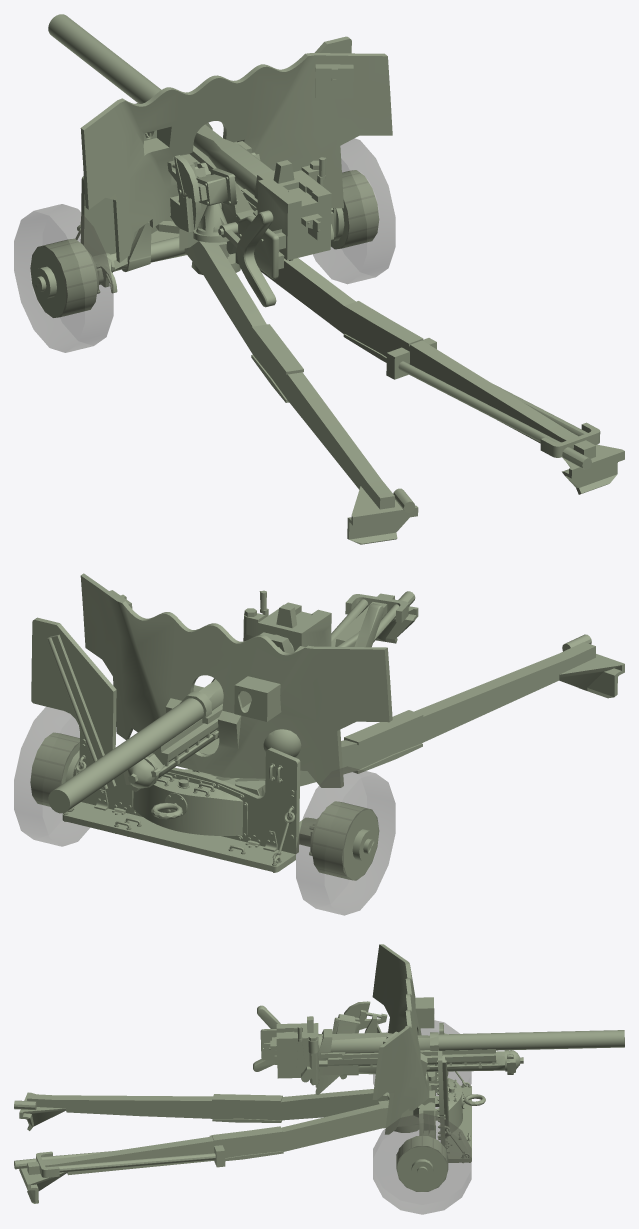
The model's file is AMK.glb.
The picture shows the model from 3 angles, top to bottom: view 1: azimuth 30°, elevation 25°; view 2: azimuth 150°, elevation 25°; view 3: azimuth 270°, elevation 25°; orthographic projection. The views are drawn at different scales.
Parts seen in each view (by area): view 1: amkpro, amkgua2, amkgua1, amknem1, amkarco, amknem2, amkcao, amkbloq, amklla1, amkeje, amkprod, amklla2 (+1 smaller); view 2: amkpro, amkprod, amkgua1, amknem1, amknem2, amkcao, amkppla, amklla1, amkbloq, amkgua2, amkesta, amklla2 (+2 smaller); view 3: amkgua2, amkgua1, amkpro, amknem2, amkcao, amkesta, amkbloq, amklla2, amkarco, amkprod, amkppla, amkeje (+1 smaller).
Part boxes in pixels (x1,y1,x2,y2): amkpro: (80,53,392,262); amkgua2: (235,252,624,494); amkgua1: (155,221,418,544); amknem1: (14,204,113,352); amkarco: (167,155,285,307); amknem2: (313,138,395,283); amkcao: (48,14,274,215); amkbloq: (257,157,331,260); amklla1: (30,238,97,317); amkeje: (86,208,344,293); amkprod: (75,36,351,256); amklla2: (331,170,379,249); amkpro: (80,573,392,787); amkprod: (31,617,300,863); amkgua1: (192,634,624,786); amknem1: (296,766,395,915); amknem2: (14,707,89,846); amkcao: (48,632,294,813); amkppla: (62,802,295,872); amklla1: (312,801,379,880); amkbloq: (243,590,331,651); amkgua2: (184,591,418,770); amkesta: (123,717,218,791); amklla2: (30,732,79,806); amkgua2: (14,1100,439,1203); amkgua1: (14,1083,438,1130); amkpro: (372,944,434,1134); amknem2: (373,1113,471,1214); amkcao: (318,1029,624,1066); amkesta: (315,1050,523,1094); amkbloq: (263,1016,319,1085); amklla2: (396,1136,448,1191); amkarco: (253,1001,387,1079); amkprod: (437,1023,467,1157); amkppla: (446,1082,471,1162); amkeje: (387,1071,439,1157).
Bounding box in the file's own units: 40.08 × 27.69 × 91.68.
